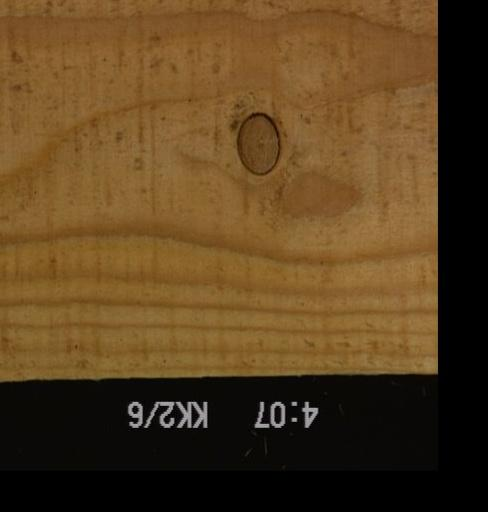dry_knot: (235, 110, 282, 175)
